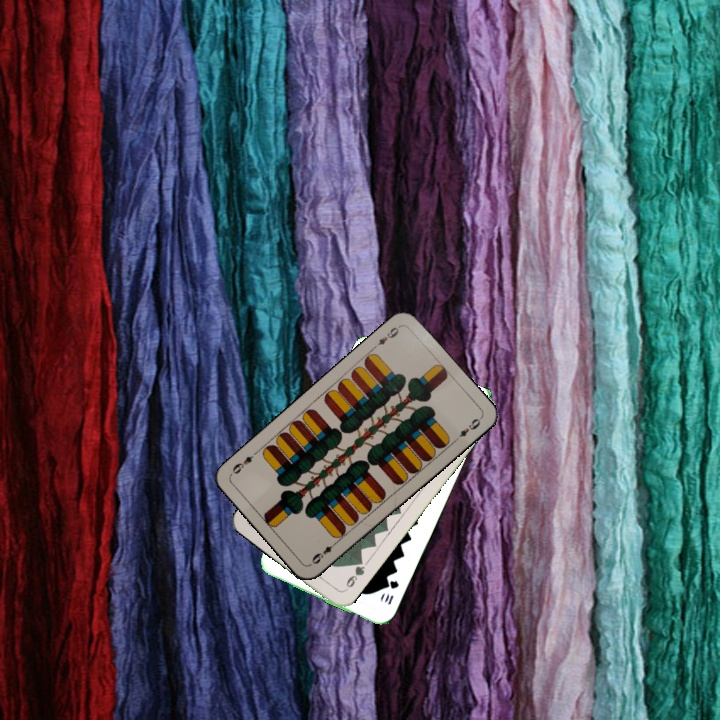E9: (369, 322, 403, 352), (308, 537, 341, 567)
G10: (380, 576, 401, 607)
G9: (340, 556, 368, 594)
